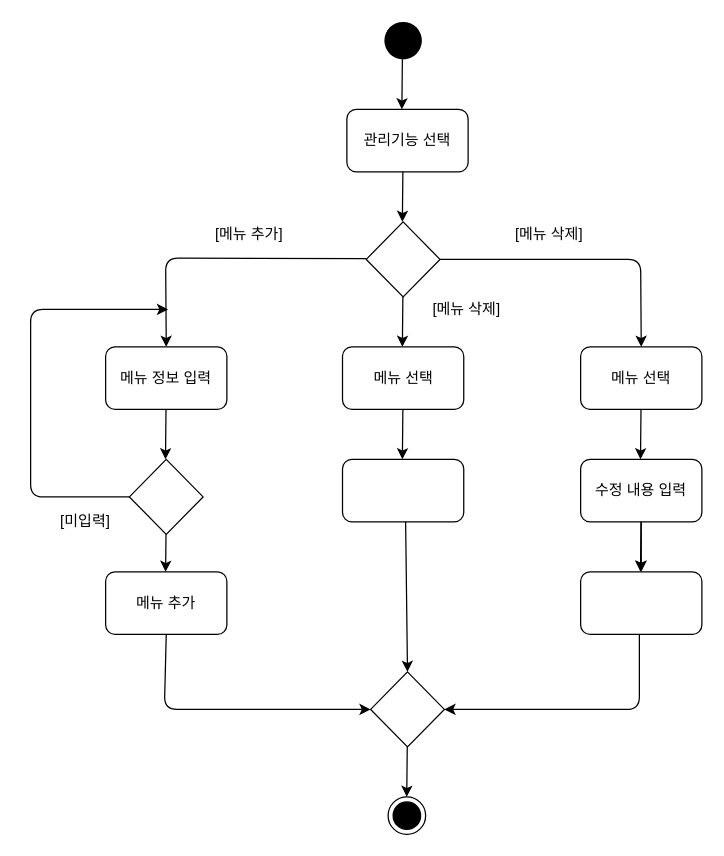
This 724x856 diagram has some shape labels left out. The box of each missing label's shape, as (x1, y1, x2, y2) in pixels:
메뉴 삭제: (341, 458, 464, 522)
메뉴 수정: (579, 571, 702, 634)
